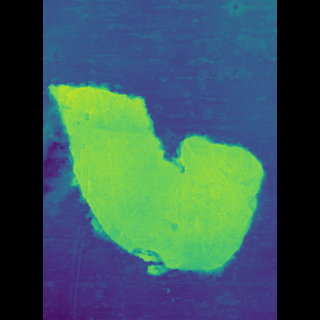Loch: (74, 72, 240, 282)
